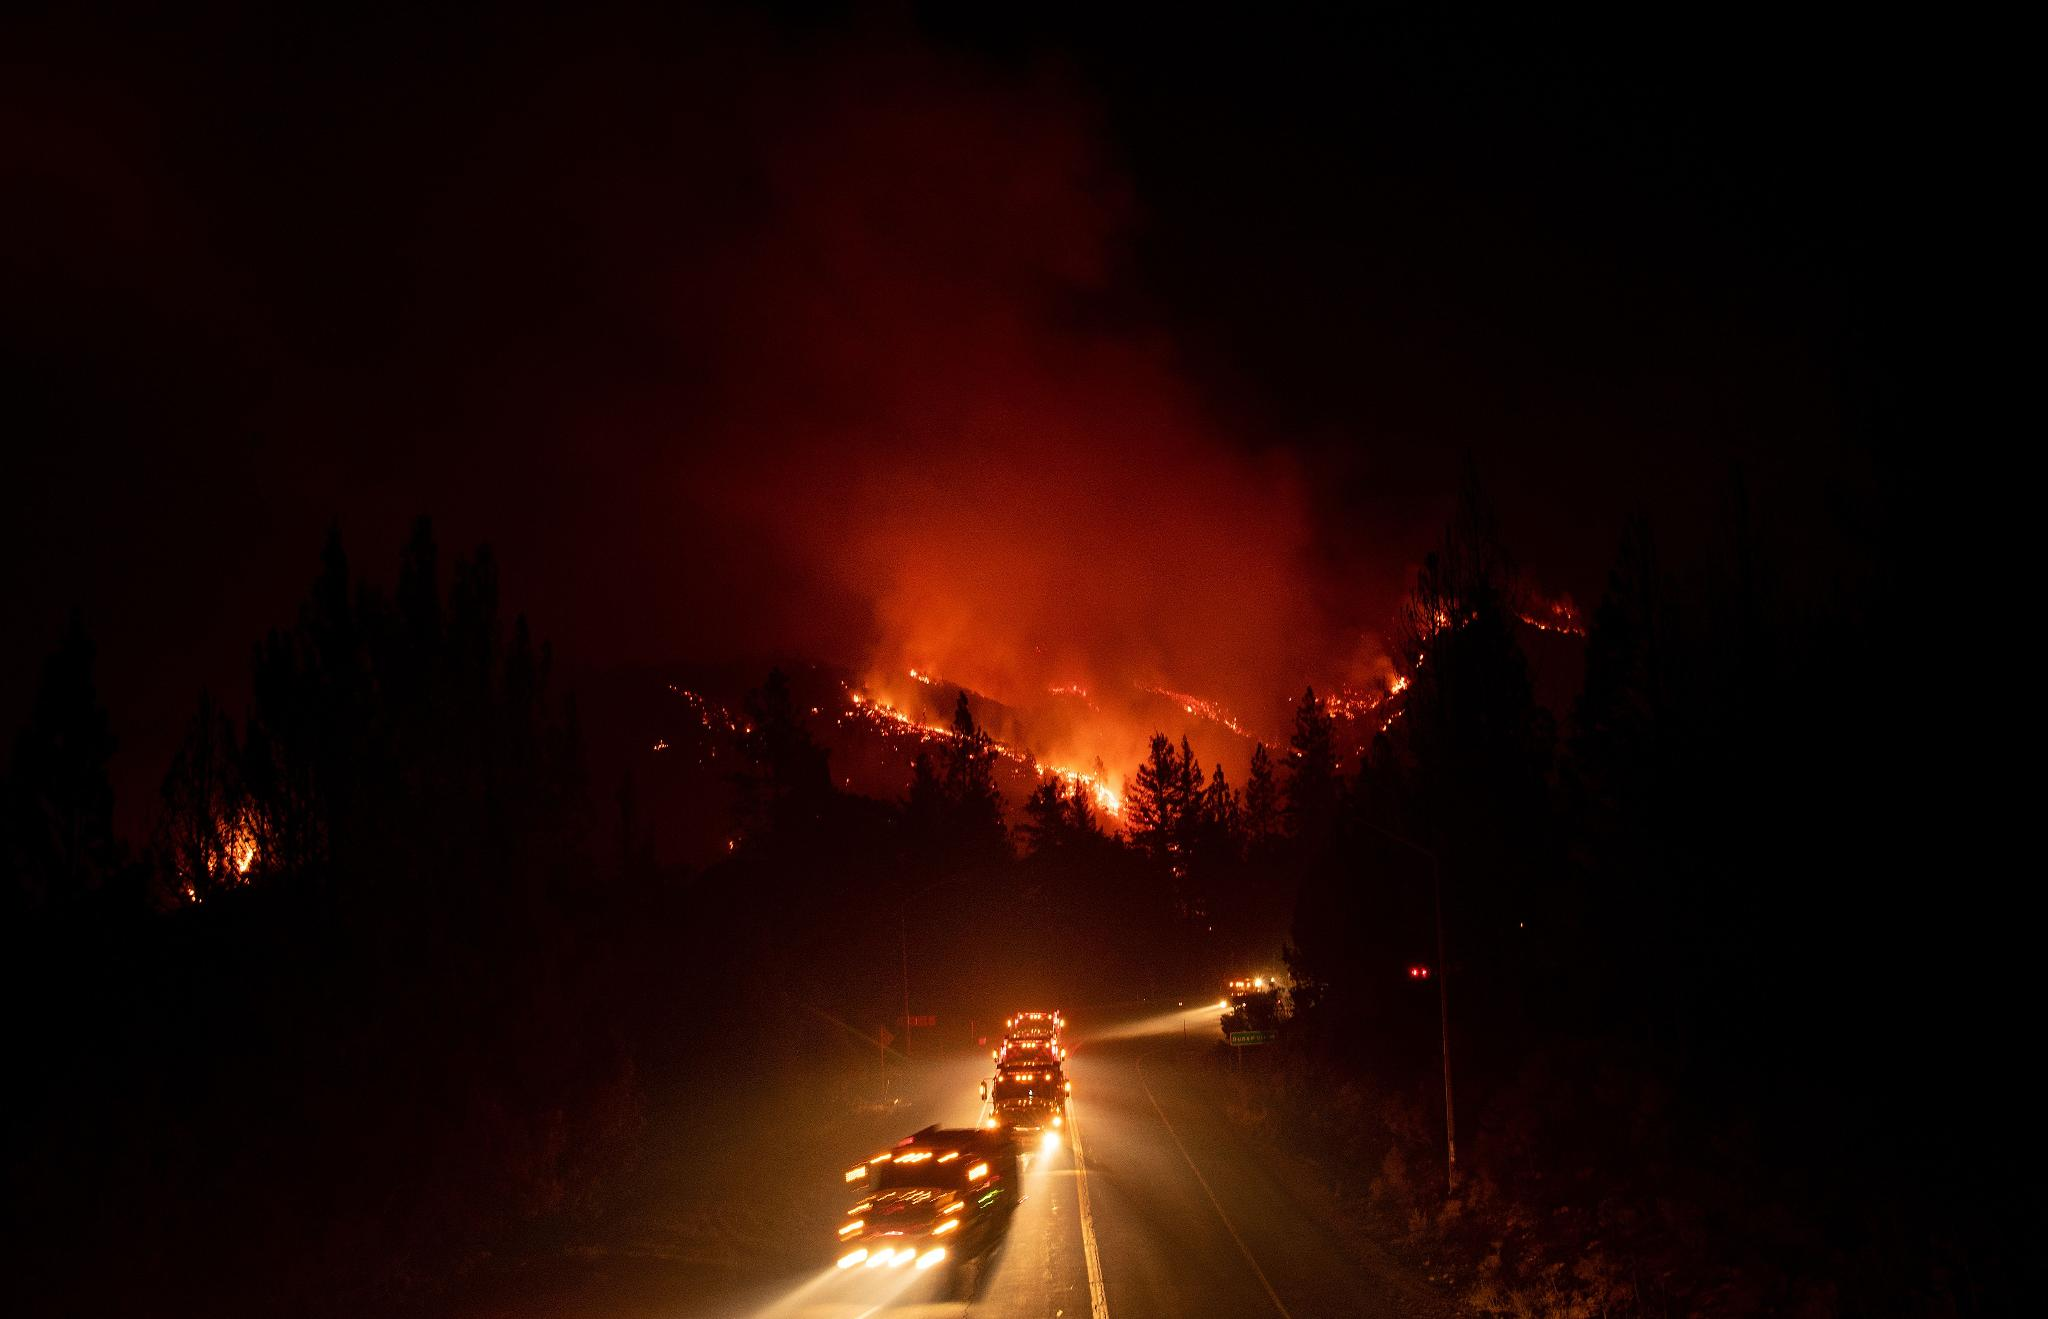fire: (797, 554, 1520, 895), (152, 779, 309, 928)
